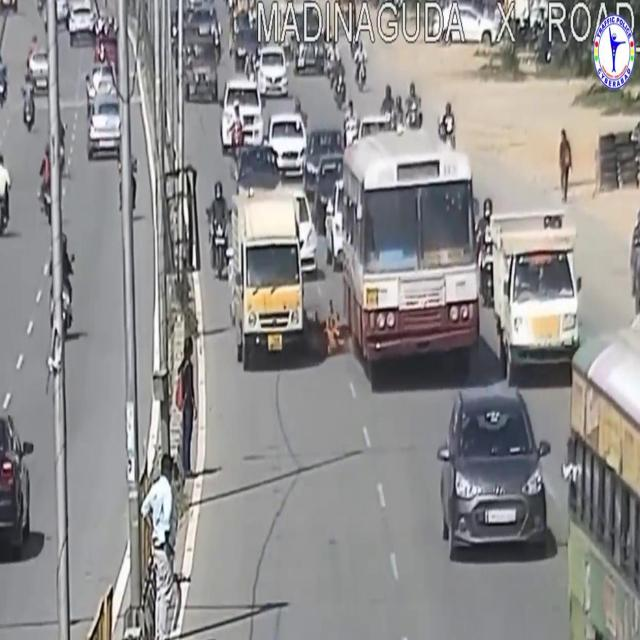accident: (225, 125, 487, 393)
non_accident: (173, 21, 311, 181), (60, 0, 121, 168)
